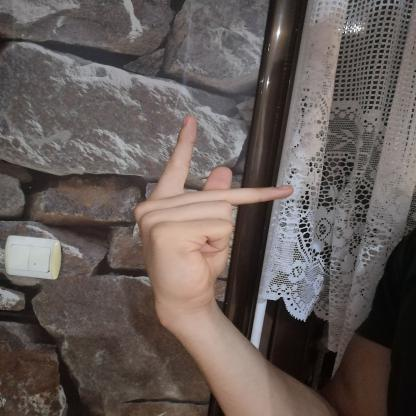DHAA: (123, 106, 307, 324)
